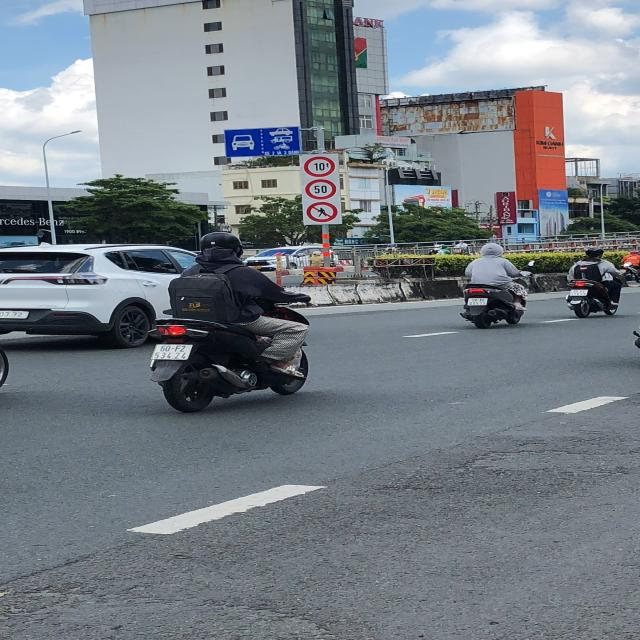Bien bao cam nguoi di bo: (304, 200, 339, 223)
Bien bao toc do toi da cho phep: (304, 178, 339, 200)
